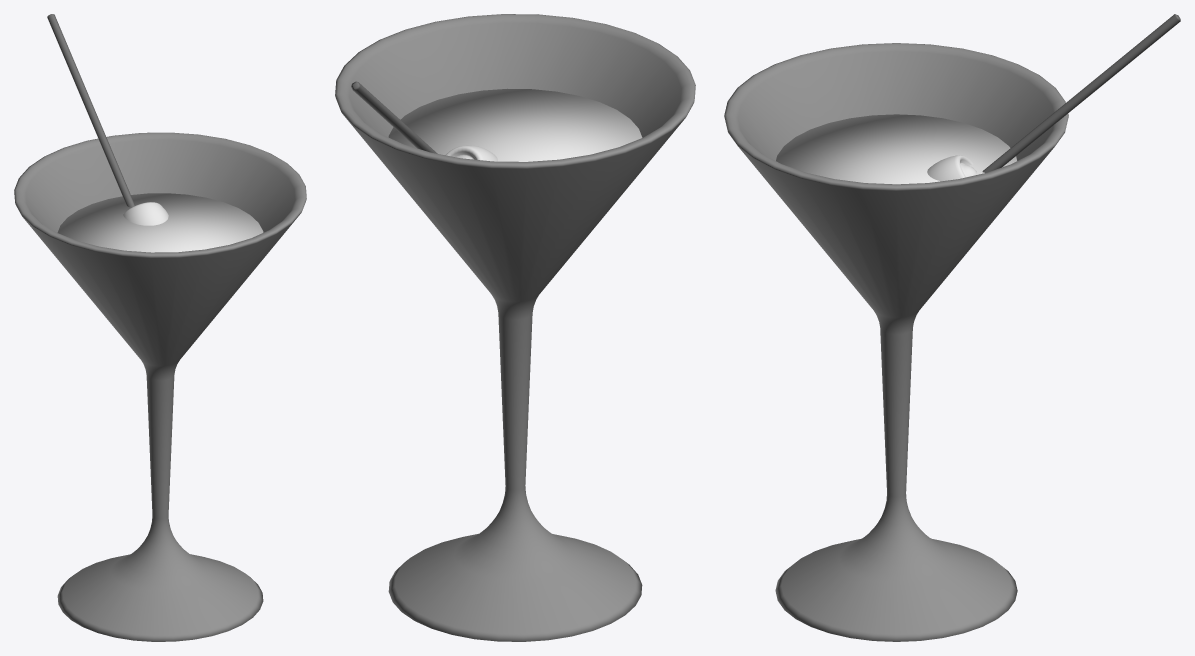
File: Martini.fbx
The picture shows the model from 3 angles, left to right: view 1: azimuth 30°, elevation 25°; view 2: azimuth 150°, elevation 25°; view 3: azimuth 270°, elevation 25°; orthographic projection. The views are drawn at different scales.
Visible parts, largest first — view 1: Glass, Liquid, Stick, Olive; view 2: Glass, Liquid, Stick, Olive; view 3: Glass, Liquid, Stick, Olive.
Part boxes in pixels (x1=…): Glass: x1=14, y1=132, x2=306, y2=641; Liquid: x1=57, y1=193, x2=263, y2=252; Stick: x1=47, y1=14, x2=134, y2=207; Olive: x1=123, y1=202, x2=168, y2=225; Glass: x1=335, y1=14, x2=695, y2=641; Liquid: x1=388, y1=88, x2=642, y2=161; Stick: x1=351, y1=81, x2=437, y2=153; Olive: x1=445, y1=145, x2=497, y2=161; Glass: x1=724, y1=43, x2=1068, y2=641; Liquid: x1=776, y1=114, x2=1016, y2=184; Stick: x1=982, y1=14, x2=1180, y2=172; Olive: x1=927, y1=155, x2=976, y2=181.
Size of the model in its own units: 8.43 by 15.76 by 11.17.
4 materials, 1 textured.
